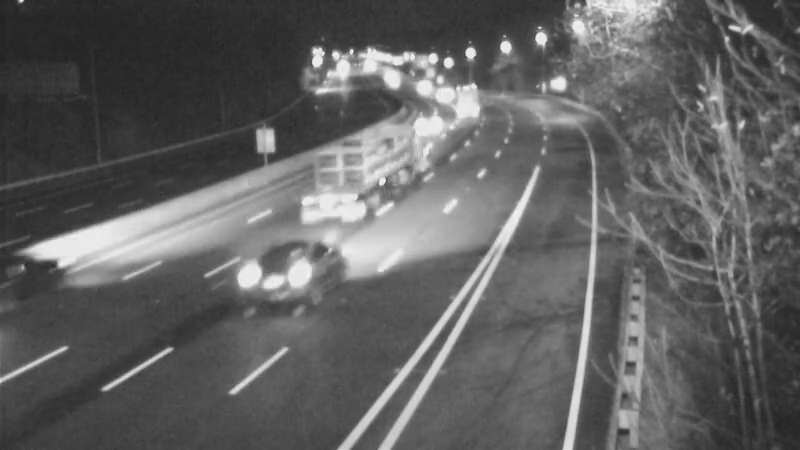vehicle: (307, 136, 387, 216), (249, 242, 329, 322), (1, 238, 73, 318), (394, 59, 444, 109), (415, 65, 465, 115), (442, 72, 492, 122), (406, 98, 456, 148)
